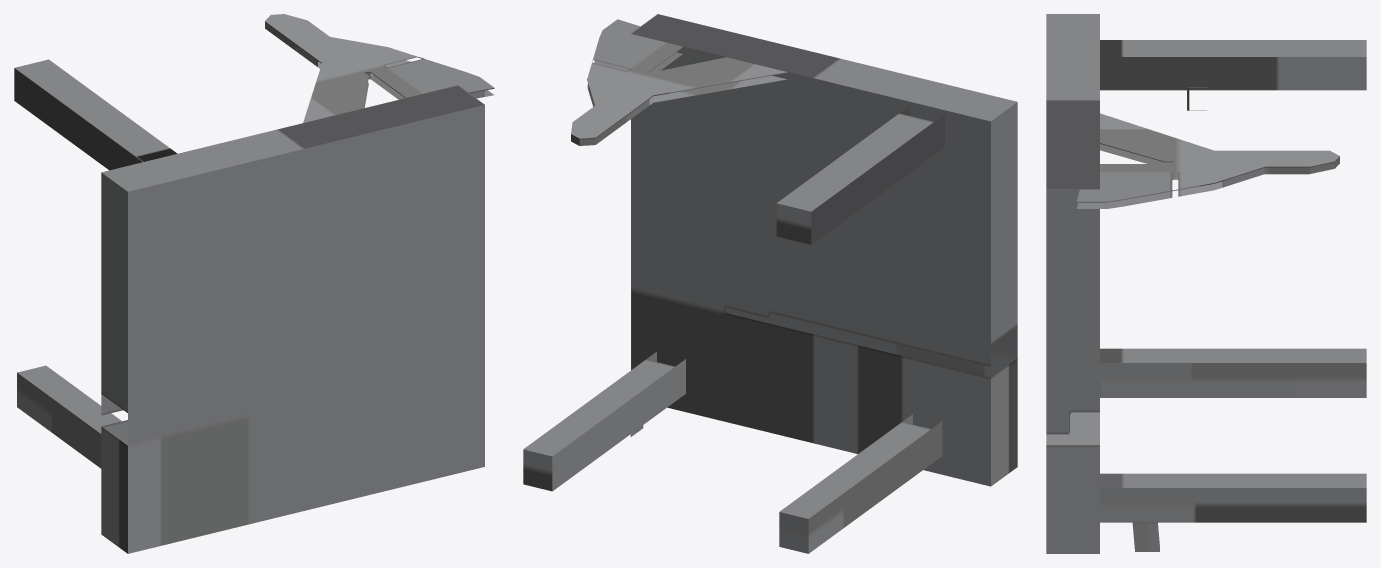
The picture shows the model from 3 angles, left to right: view 1: azimuth 30°, elevation 25°; view 2: azimuth 150°, elevation 25°; view 3: azimuth 270°, elevation 25°; orthographic projection.
Size of the model in its own units: 1.07 by 0.9976 by 0.7752.
